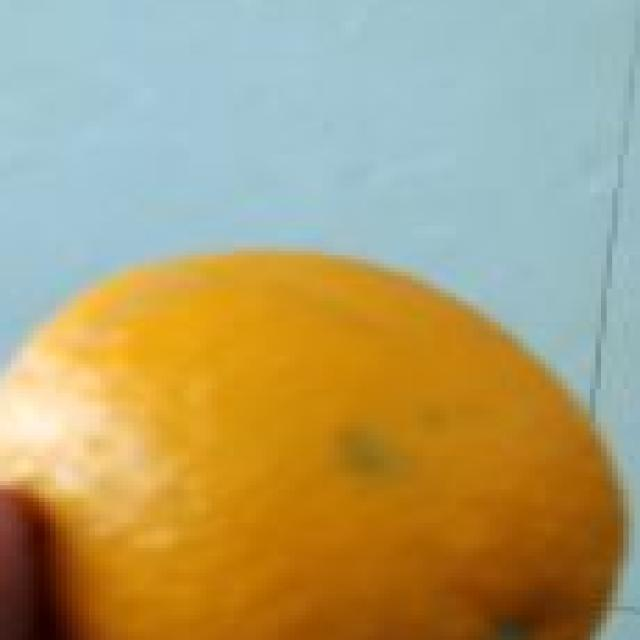Good_Orange-15-21 days: (0, 251, 629, 640)
